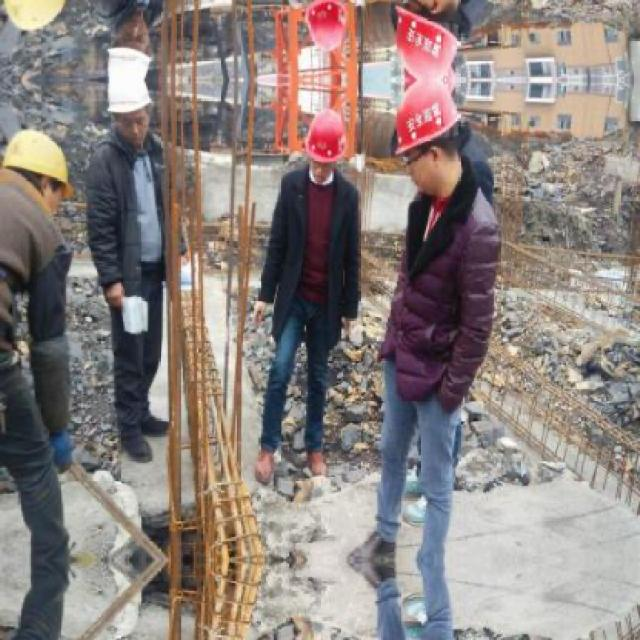helmet: (394, 83, 466, 195), (3, 128, 71, 220), (392, 0, 466, 78), (101, 17, 154, 80), (101, 82, 154, 144), (308, 104, 349, 184), (306, 0, 349, 57), (3, 0, 72, 34)
